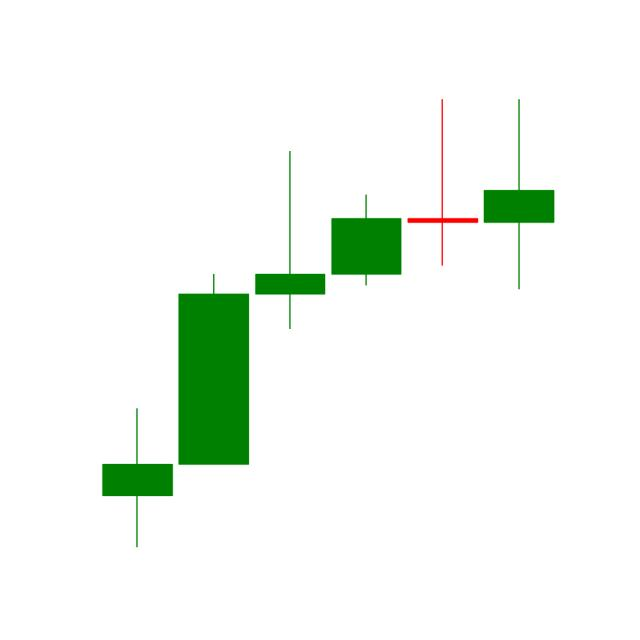Gravenstone Doji: (254, 148, 326, 332), (404, 98, 481, 268)
spinning top: (484, 96, 560, 294), (98, 405, 175, 552), (328, 194, 403, 290)
